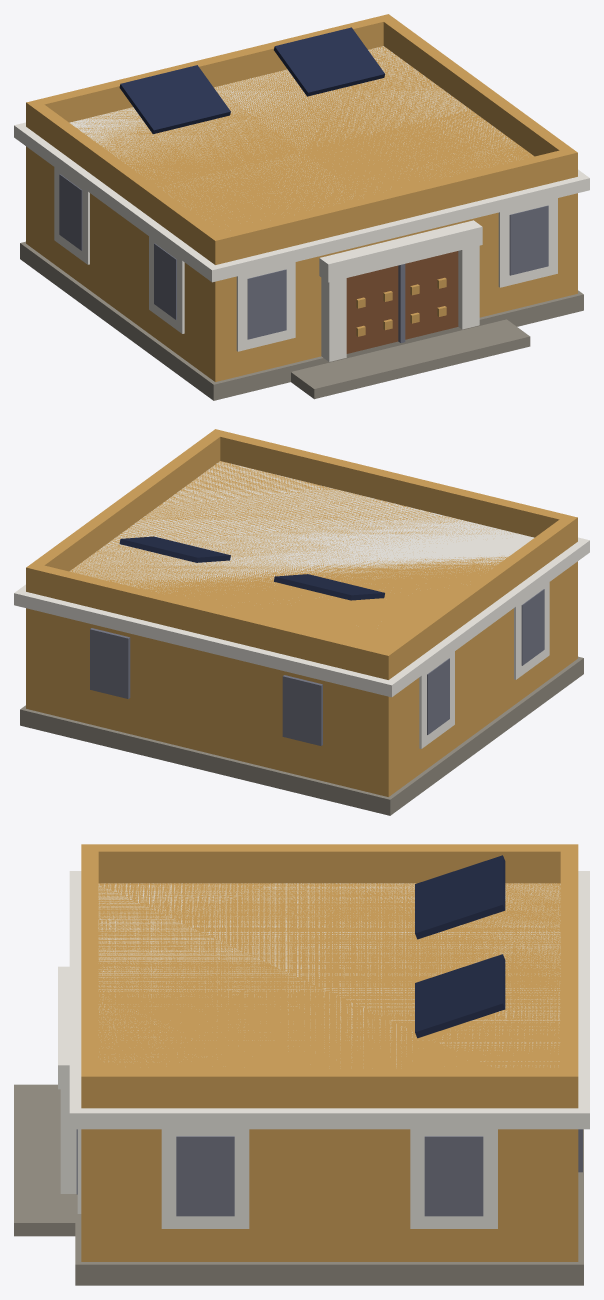
The model's file is house-1x1-1f-quincha-a-solar.glb.
3 views of the same model, one above another, from view 1: azimuth 30°, elevation 25°; view 2: azimuth 150°, elevation 25°; view 3: azimuth 270°, elevation 25° (orthographic). The views are drawn at different scales.
Parts seen in each view (by area): view 1: house-1x1-1f-quincha-a-solar; view 2: house-1x1-1f-quincha-a-solar; view 3: house-1x1-1f-quincha-a-solar.
Boxes of the visible parts, x1=… form: house-1x1-1f-quincha-a-solar: x1=14, y1=14, x2=589, y2=400; house-1x1-1f-quincha-a-solar: x1=14, y1=429, x2=589, y2=815; house-1x1-1f-quincha-a-solar: x1=14, y1=844, x2=589, y2=1285.
Bounding box in the file's own units: 0.98 × 0.4486 × 0.985.
1 material, 1 textured.
